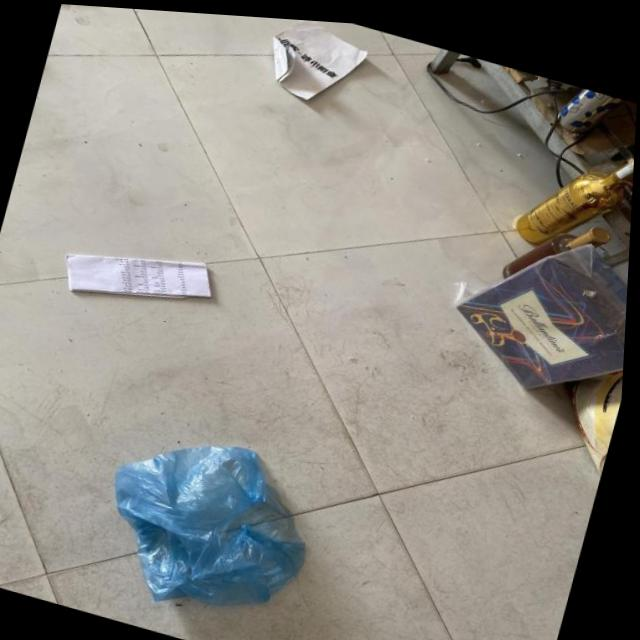clothes: (500, 111, 637, 260), (540, 70, 626, 125)
foam box: (485, 193, 625, 291)
food: (35, 209, 251, 358), (228, 12, 389, 123)
metal: (73, 399, 355, 637)
trash: (442, 224, 632, 411)
